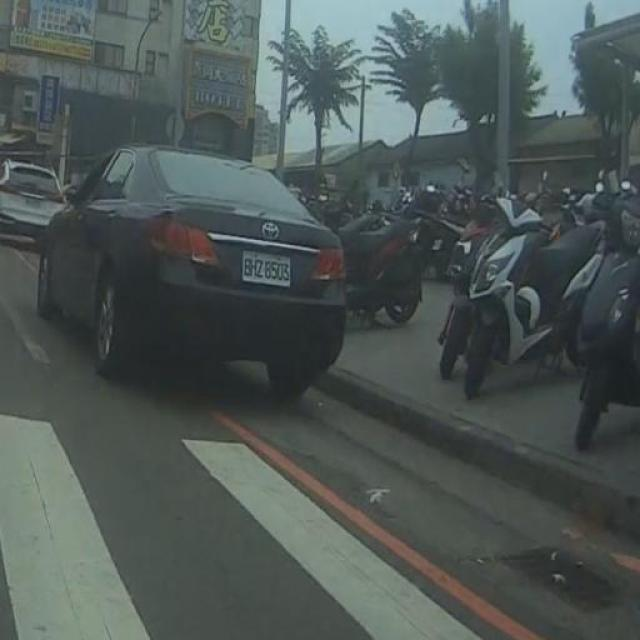Legalparking: (320, 164, 640, 464)
illegalparking: (38, 126, 370, 414)
